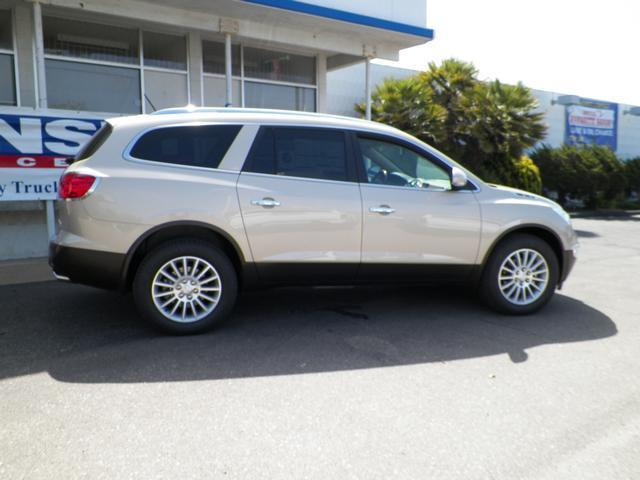car: (39, 96, 591, 365)
